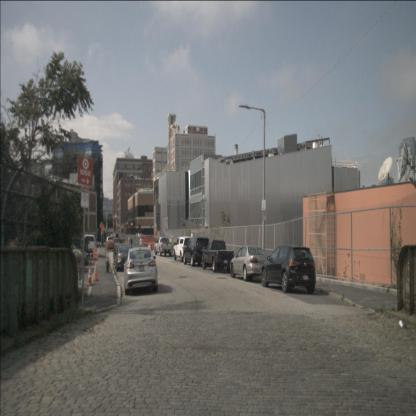cone: (87, 266, 93, 286), (93, 263, 99, 281), (92, 249, 96, 264), (93, 248, 98, 260), (97, 248, 100, 260), (89, 254, 92, 263)
